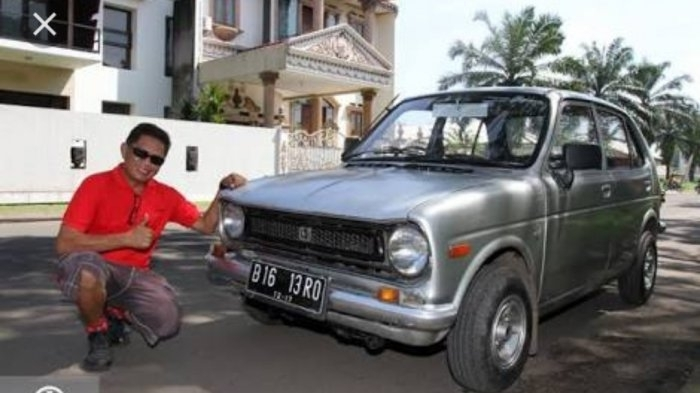plate: (246, 259, 324, 319)
